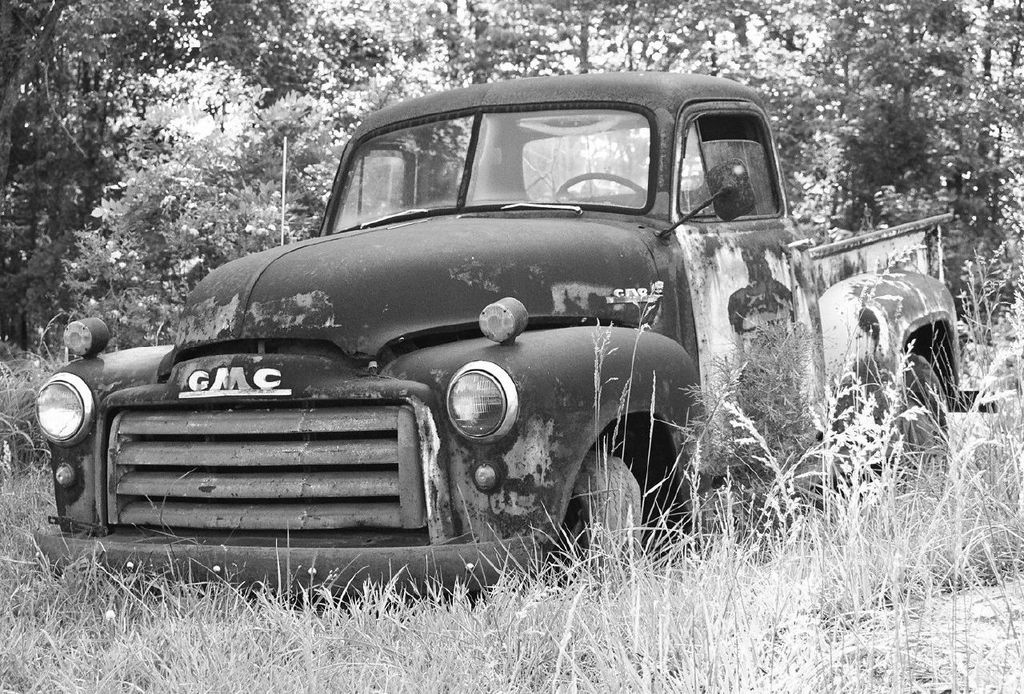Car: (36, 89, 935, 626)
